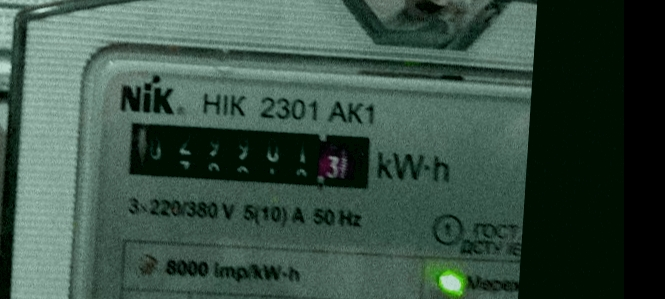0: (145, 133, 165, 161), (264, 135, 282, 165)
1: (295, 136, 310, 165)
2: (175, 129, 195, 157)
3: (323, 153, 342, 180)
9: (205, 131, 223, 159), (236, 134, 251, 162)
screen: (118, 112, 383, 200)
